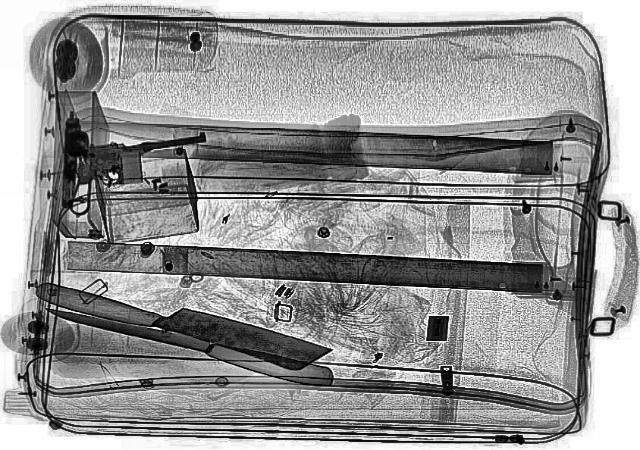Gun: (56, 133, 218, 217), (56, 116, 92, 212)
Knife: (26, 272, 334, 376), (38, 298, 338, 390)
